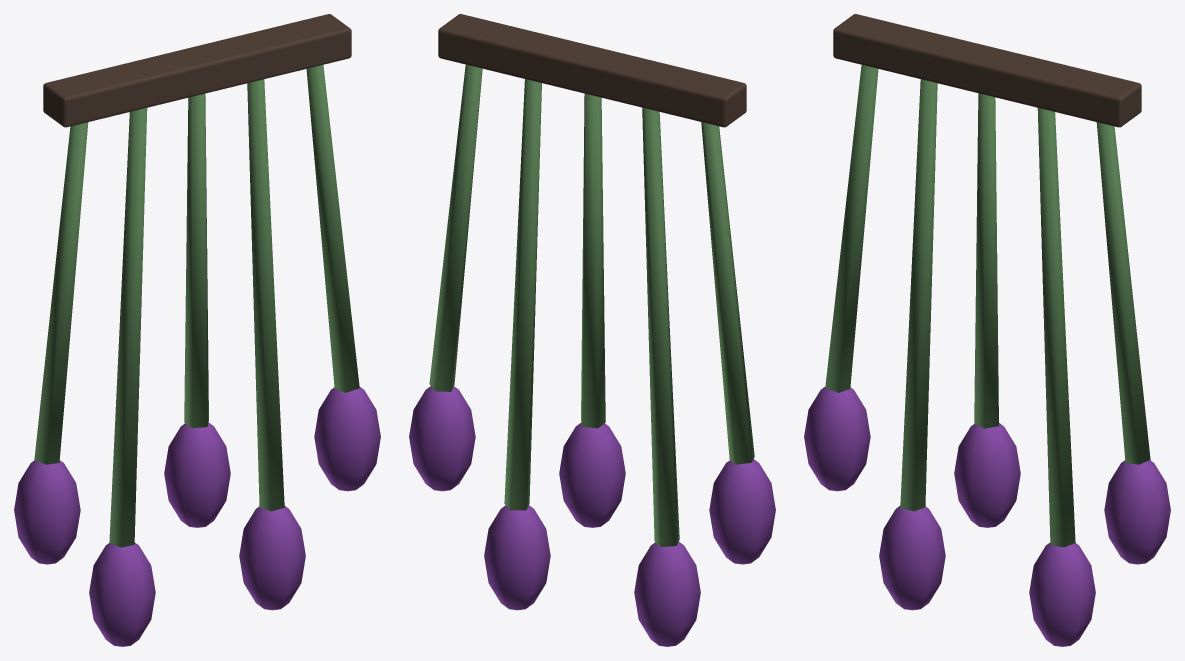
File: hanging_herbs_lavender.glb
3 views of the same model, side by side, from view 1: azimuth 30°, elevation 25°; view 2: azimuth 150°, elevation 25°; view 3: azimuth 330°, elevation 25° (orthographic).
Visible parts, largest first — view 1: GD_hanging_herbs_lavender__m1, GD_hanging_herbs_lavender__m2, GD_hanging_herbs_lavender__m0; view 2: GD_hanging_herbs_lavender__m1, GD_hanging_herbs_lavender__m2, GD_hanging_herbs_lavender__m0; view 3: GD_hanging_herbs_lavender__m1, GD_hanging_herbs_lavender__m2, GD_hanging_herbs_lavender__m0.
Part boxes in pixels (box(x1,y1,x2,y2)): GD_hanging_herbs_lavender__m1: box(34, 65, 359, 547); GD_hanging_herbs_lavender__m2: box(14, 387, 380, 646); GD_hanging_herbs_lavender__m0: box(43, 14, 351, 127); GD_hanging_herbs_lavender__m1: box(429, 64, 754, 546); GD_hanging_herbs_lavender__m2: box(409, 386, 775, 646); GD_hanging_herbs_lavender__m0: box(438, 14, 746, 127); GD_hanging_herbs_lavender__m1: box(825, 65, 1150, 547); GD_hanging_herbs_lavender__m2: box(804, 387, 1170, 646); GD_hanging_herbs_lavender__m0: box(833, 14, 1141, 127).
Bounding box in the file's own units: 0.364 × 0.569 × 0.06.
